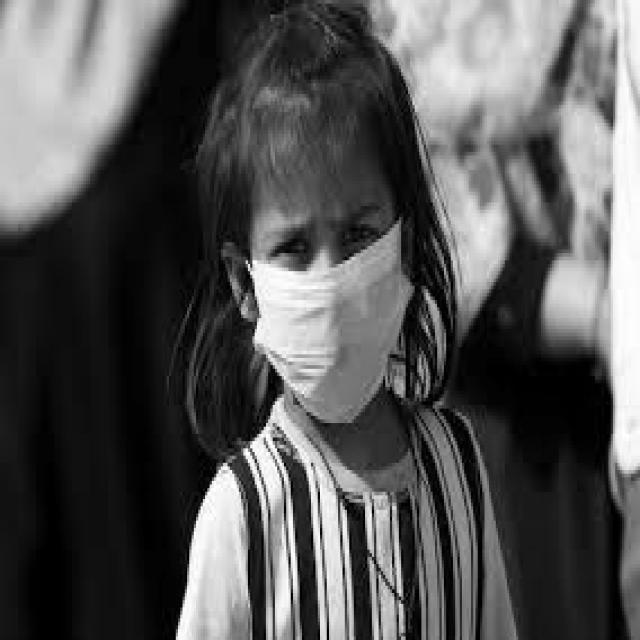with_mask: (243, 213, 415, 423)
